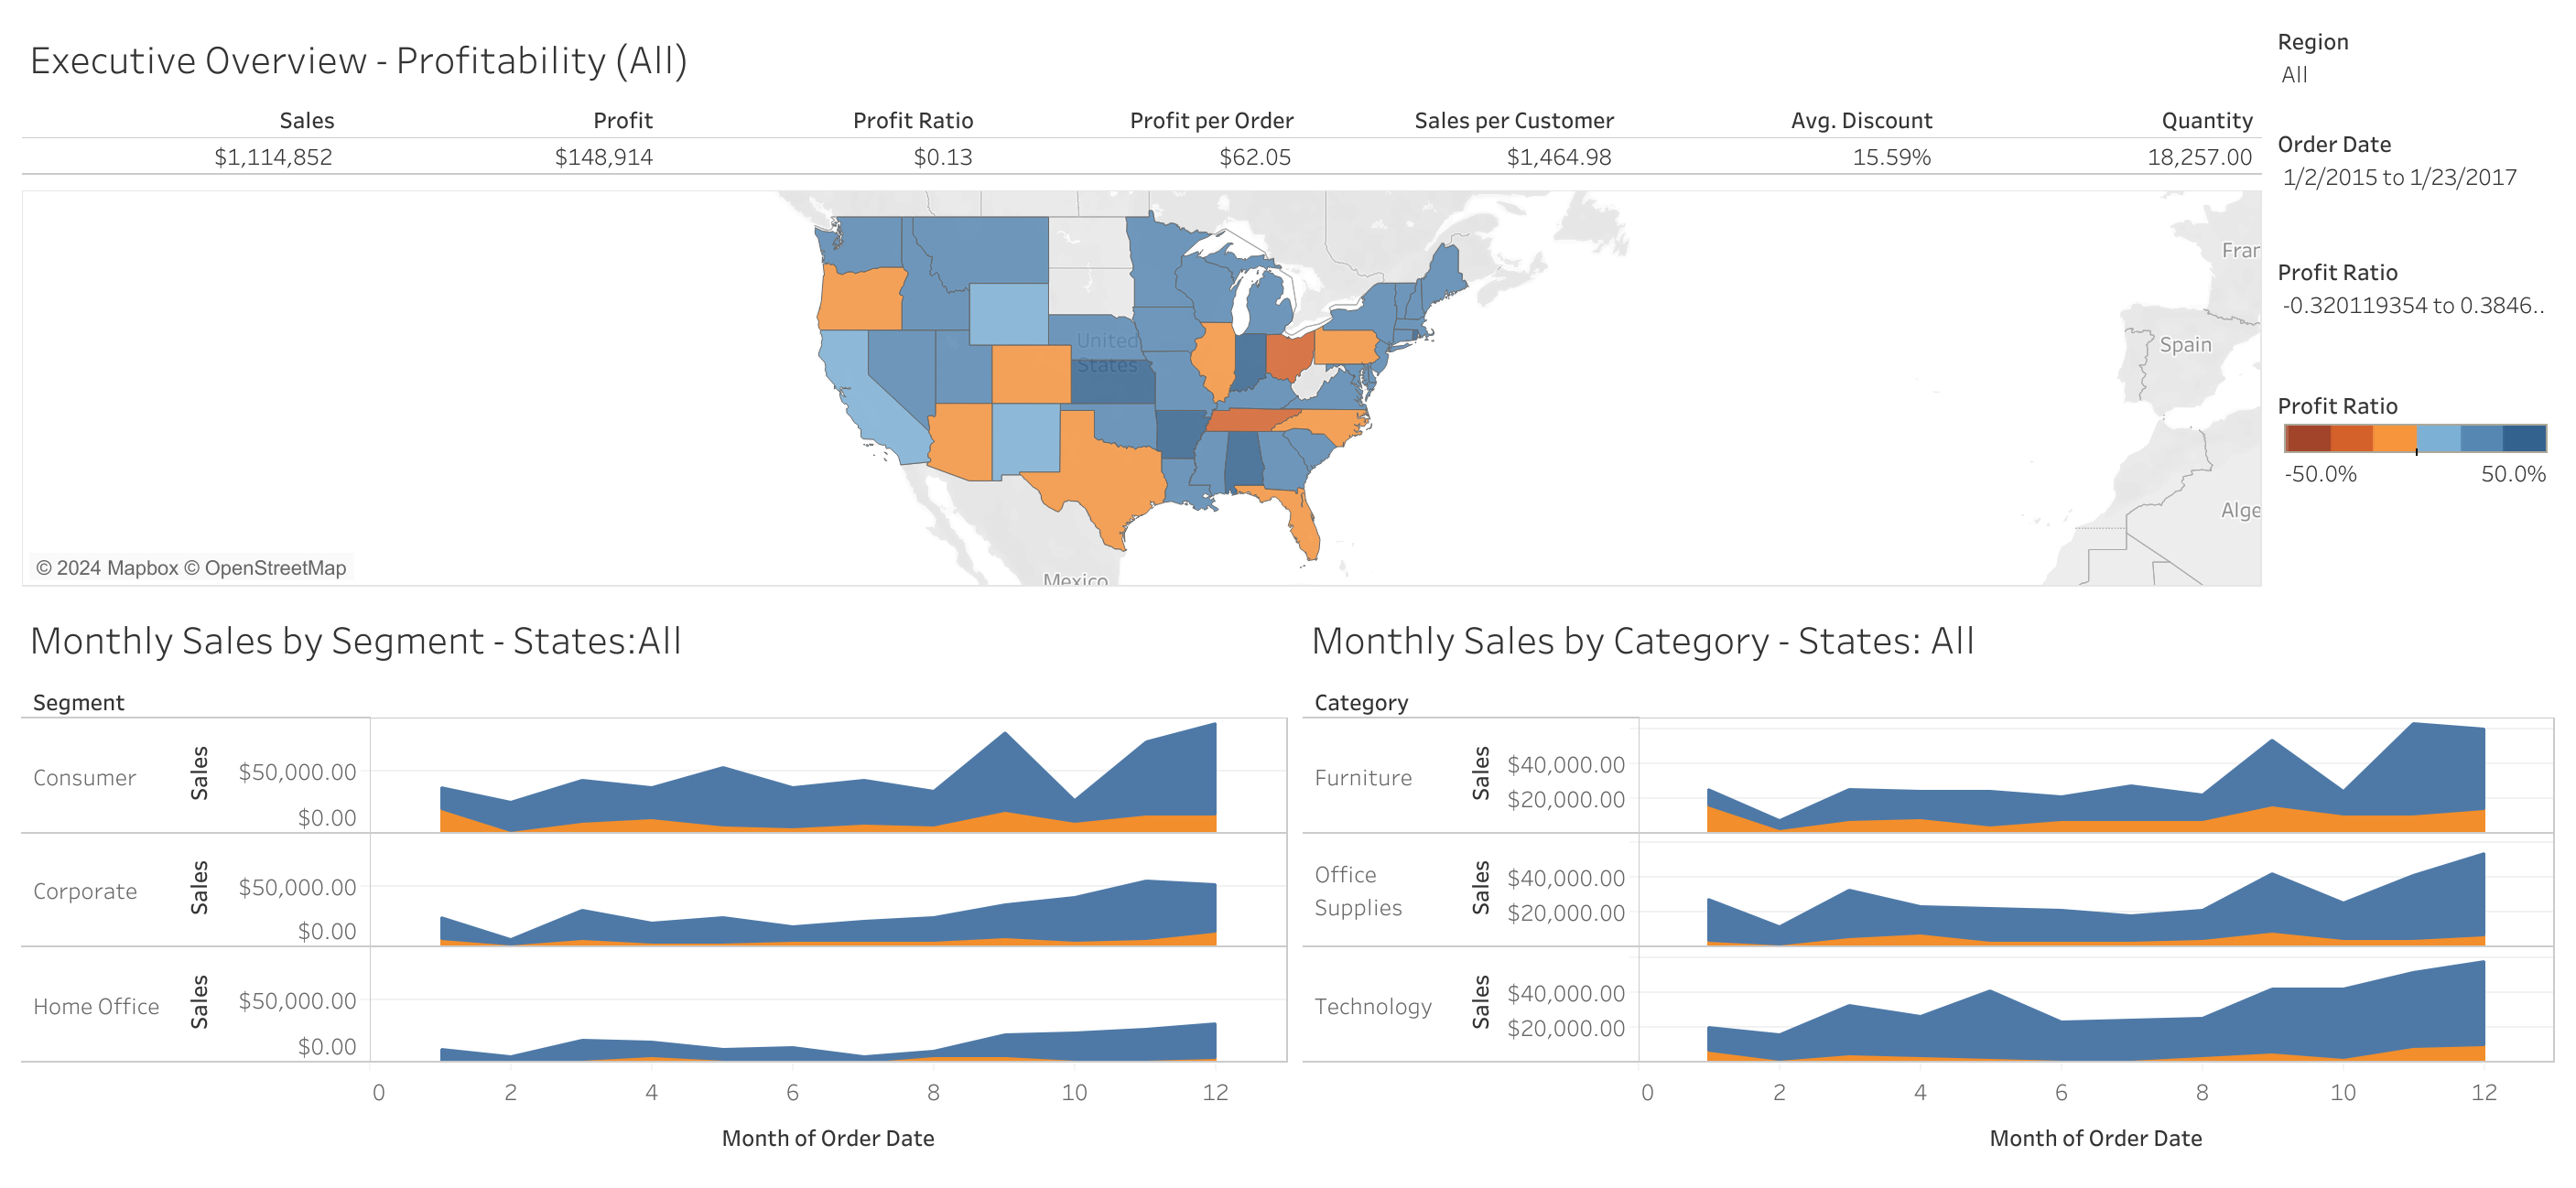

This screenshot's page, from the dashboard's own definition file:
{"tool":"tableau","page":{"name":"Executive Overview","canvas":[1000,1000],"units":"permille","ordinal":0},"visuals":[{"type":"worksheet","title":"Key Performance Indicators","mark":"Automatic","box":[6.6,12.1,855.4,139.6]},{"type":"filter","title":"Profit Ratio by Geography","param":"[federated.1yb0iuh1mvaqlo10lz2oz186vkma].[none:Region:nk]","box":[862,12.1,131.5,85]},{"type":"filter","title":"Sales by Segment","param":"[federated.1yb0iuh1mvaqlo10lz2oz186vkma].[none:Order Date:qk]","box":[862,97.1,131.5,106.2]},{"type":"worksheet","title":"Profit Ratio by Geography","mark":"Automatic","box":[6.6,151.8,855.4,348.2]},{"type":"filter","title":"Profit Ratio by Geography","param":"[federated.1yb0iuh1mvaqlo10lz2oz186vkma].[usr:Calculation_1858368185017524225:qk","box":[862,203.3,131.5,106.2]},{"type":"legend","title":"Profit Ratio by Geography","param":"[federated.1yb0iuh1mvaqlo10lz2oz186vkma].[usr:Calculation_1858368185017524225:qk","box":[862,309.6,131.5,103.2]},{"type":"worksheet","title":"Sales by Segment","mark":"Area","rows":["Segment","Sales"],"cols":["Order Date"],"box":[6.6,500,496.3,487.9]},{"type":"worksheet","title":"Sales by Category","mark":"Area","rows":["Category","Sales"],"cols":["Order Date"],"box":[502.9,500,490.6,487.9]}]}

Visuals, with their boxes on the dashboard's canvas, which has no fixed pixel size, in thousandths of its width and height (x1, y1, x2, y2). These are canvas units, not pixel positions in the 2576x1188 screenshot, which may show the page scaled, cropped or inside an application window:
"Key Performance Indicators" worksheet: x1=7, y1=12, x2=862, y2=152
"Profit Ratio by Geography" filter: x1=862, y1=12, x2=994, y2=97
"Sales by Segment" filter: x1=862, y1=97, x2=994, y2=203
"Profit Ratio by Geography" worksheet: x1=7, y1=152, x2=862, y2=500
"Profit Ratio by Geography" filter: x1=862, y1=203, x2=994, y2=310
"Profit Ratio by Geography" legend: x1=862, y1=310, x2=994, y2=413
"Sales by Segment" worksheet (Area marks): x1=7, y1=500, x2=503, y2=988
"Sales by Category" worksheet (Area marks): x1=503, y1=500, x2=994, y2=988
